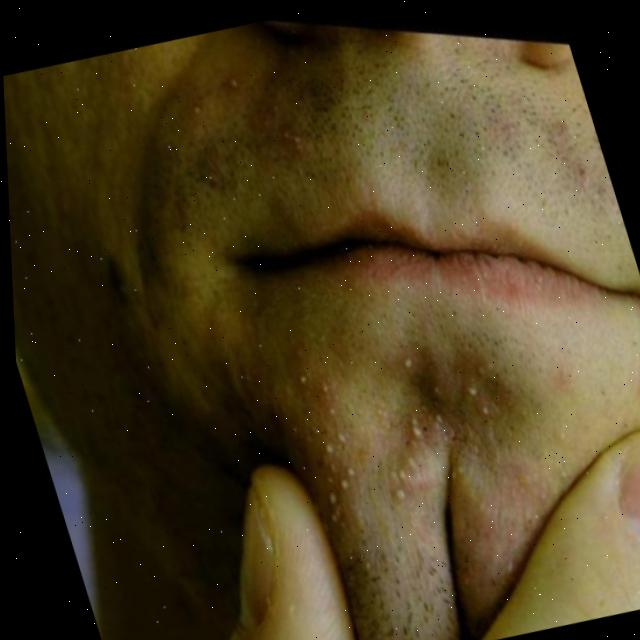Acne: (245, 250, 613, 599)
